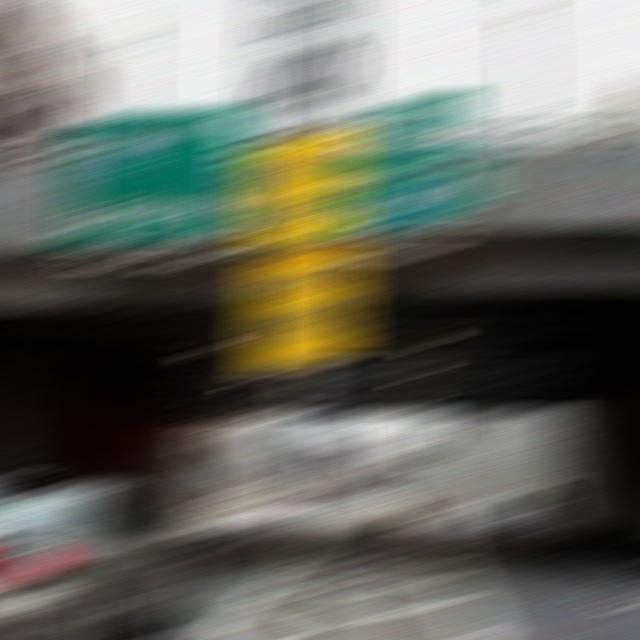speedLimit40: (252, 6, 358, 120)
